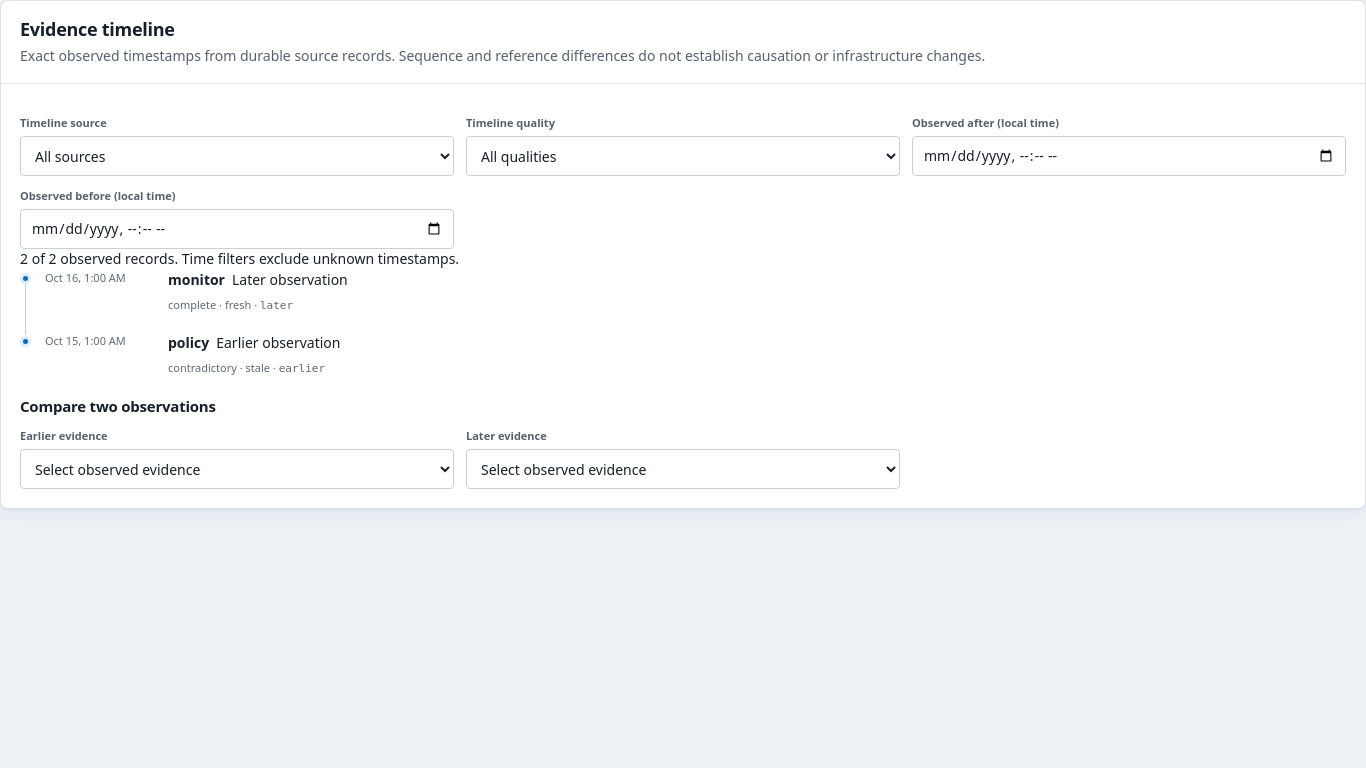
observed Situation timeline › compares references and trust facts without asserting resources were added or removed
The width and height of the screenshot is (1366, 768).
Select "policy · Oct 15, 1:00 AM · earlier" in the dropdown labelled "Earlier evidence" at (237, 469), box [20, 449, 454, 489]
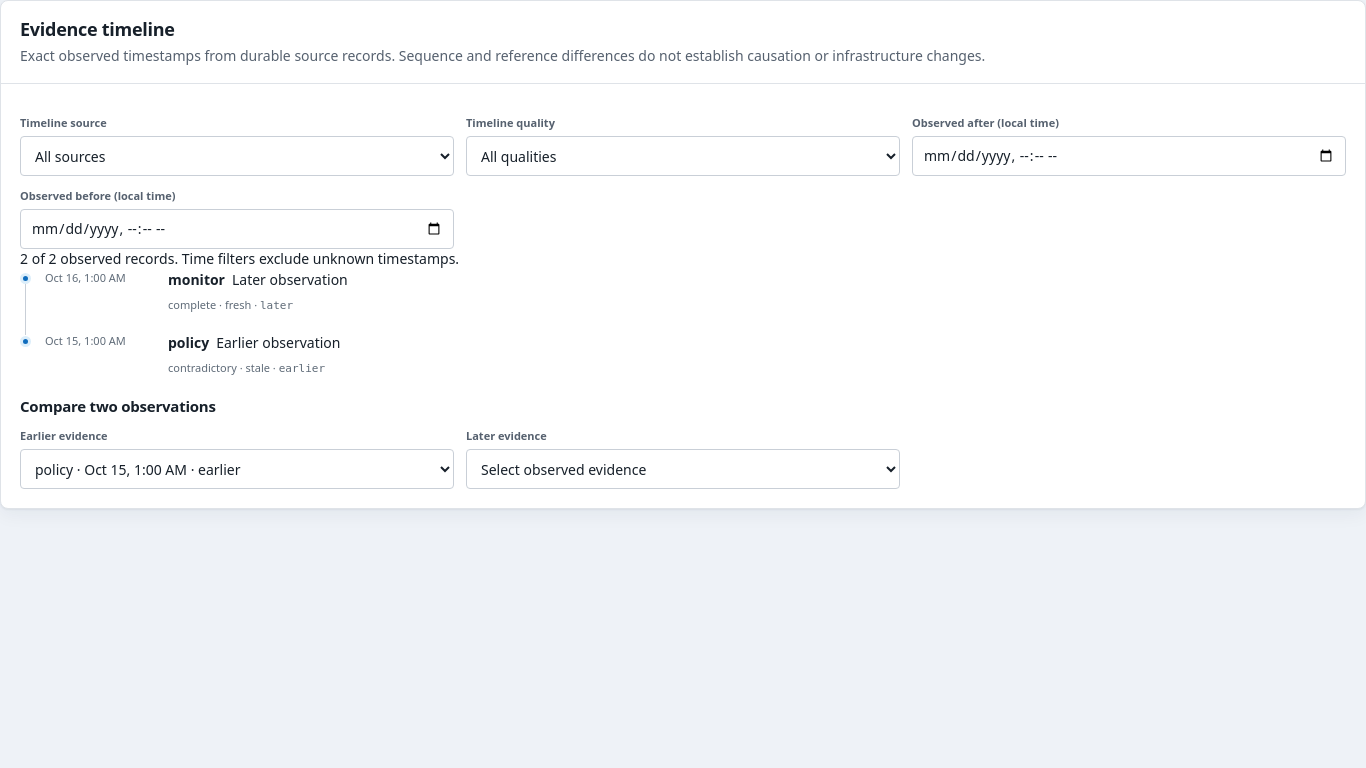
Select "monitor · Oct 16, 1:00 AM · later" in the dropdown labelled "Later evidence" at (683, 469), box [466, 449, 900, 489]
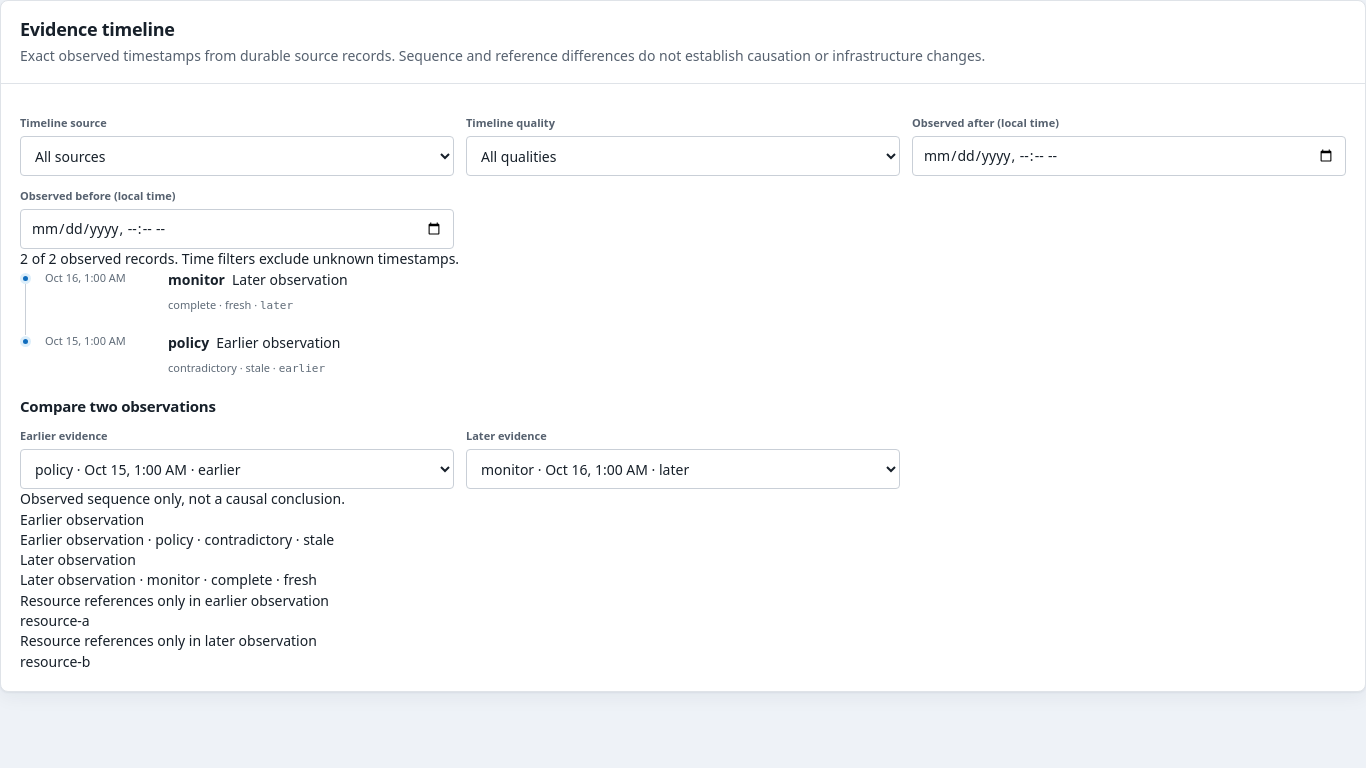
Now the text "Observed sequence only, not a causal conclusion." is shown, box [20, 489, 345, 508]
Now the text "resource-a" is shown, box [20, 611, 90, 630]
Now the text "resource-b" is shown, box [20, 652, 90, 671]
